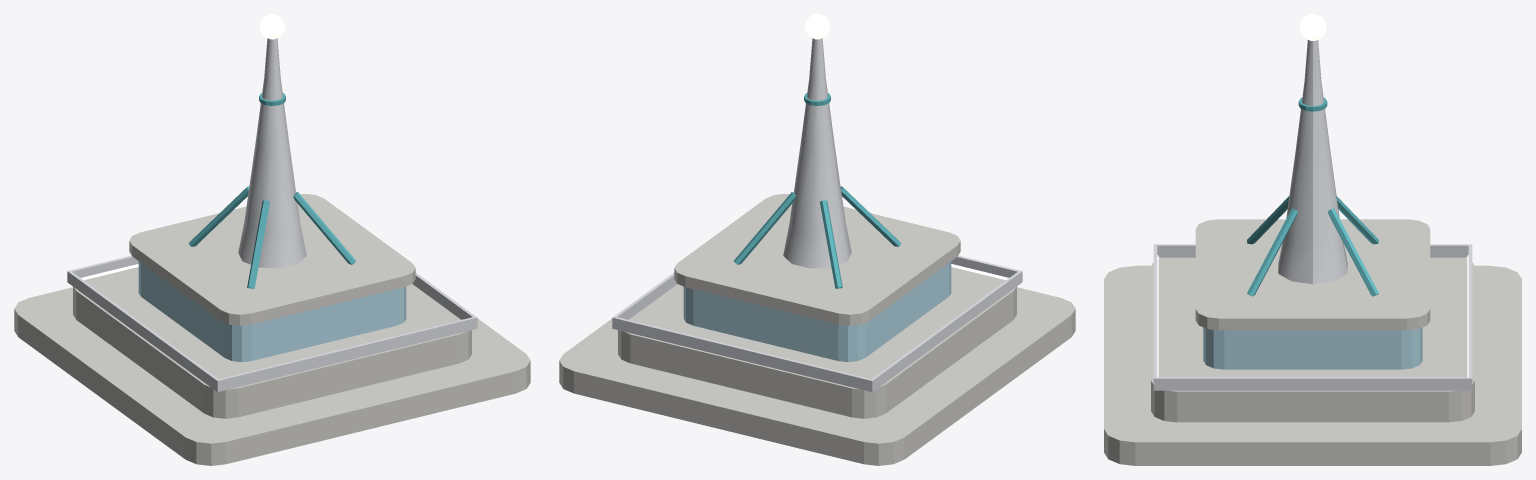
Rendered from arcology-towers-and-skyways-crown-mast-56940e41__23243.glb.
The picture shows the model from 3 angles, left to right: view 1: azimuth 30°, elevation 25°; view 2: azimuth 150°, elevation 25°; view 3: azimuth 270°, elevation 25°; orthographic projection. The views are drawn at different scales.
Visible parts, largest first — view 1: crown-mast; view 2: crown-mast; view 3: crown-mast.
Boxes of the visible parts, <box> form: crown-mast: <box>14,14,530,465</box>; crown-mast: <box>559,14,1075,465</box>; crown-mast: <box>1104,14,1521,465</box>.
Size of the model in its own units: 16 by 15.32 by 16.
